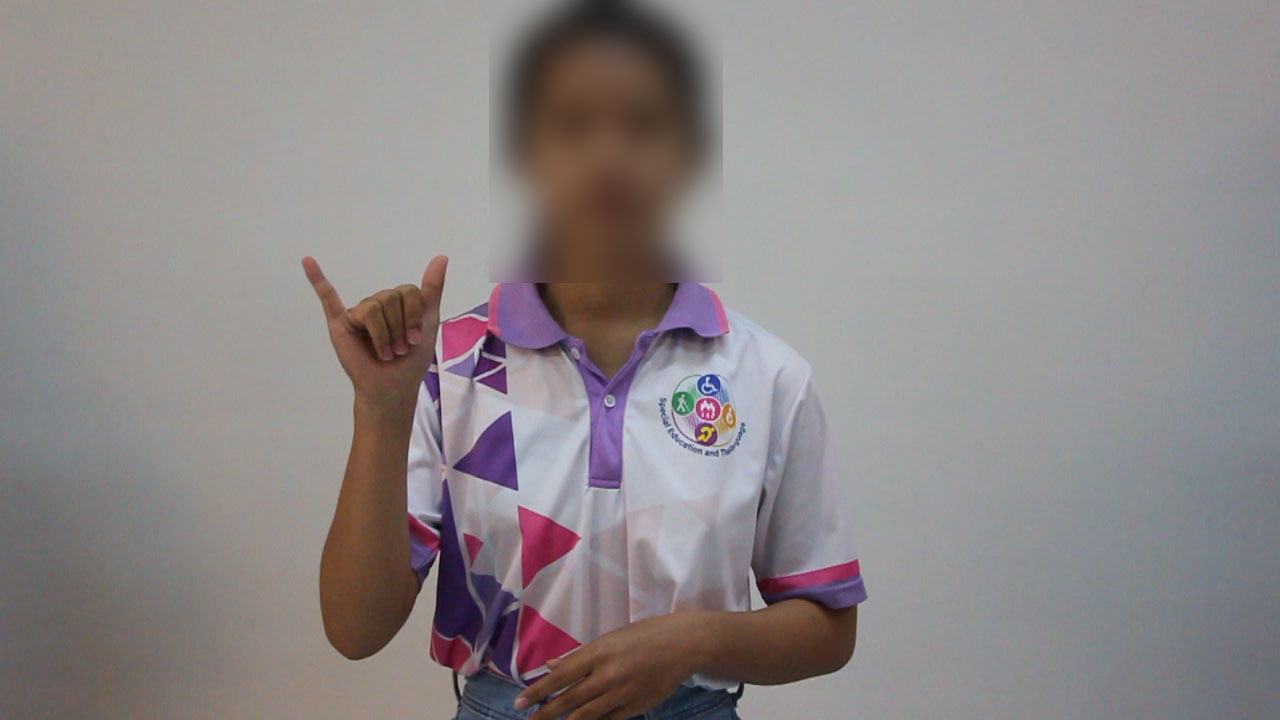yor: (295, 247, 473, 401)
